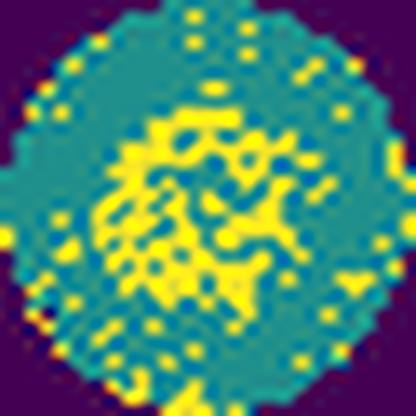Donut: (81, 95, 351, 343)
